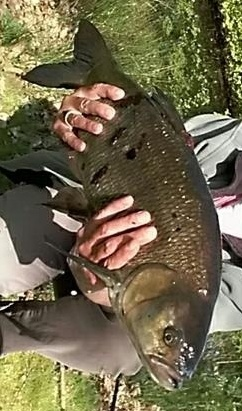Leuciscus idus: (20, 20, 222, 391)
